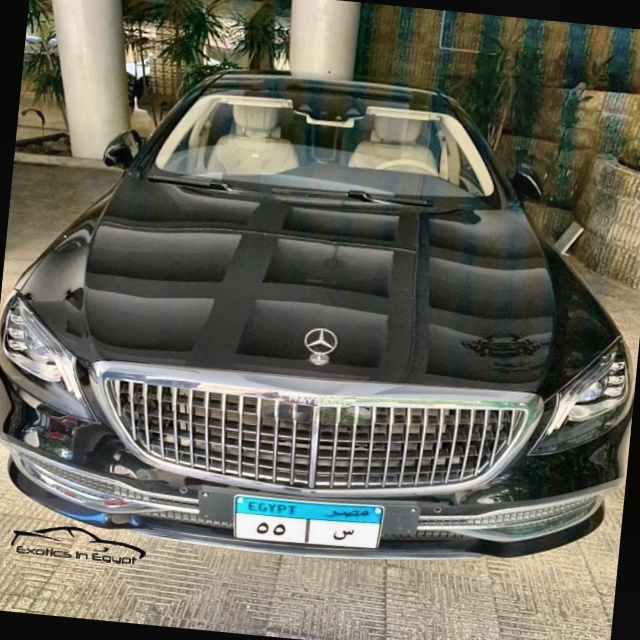License Plate: (228, 490, 388, 555)
